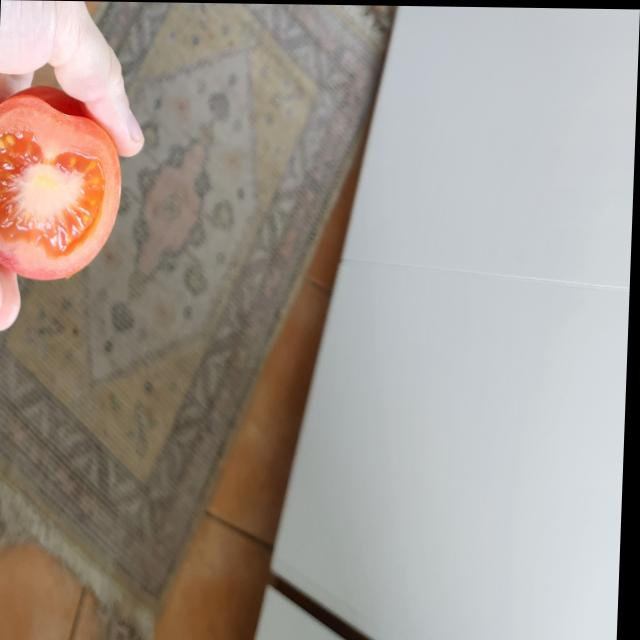tomato: (0, 91, 127, 276)
